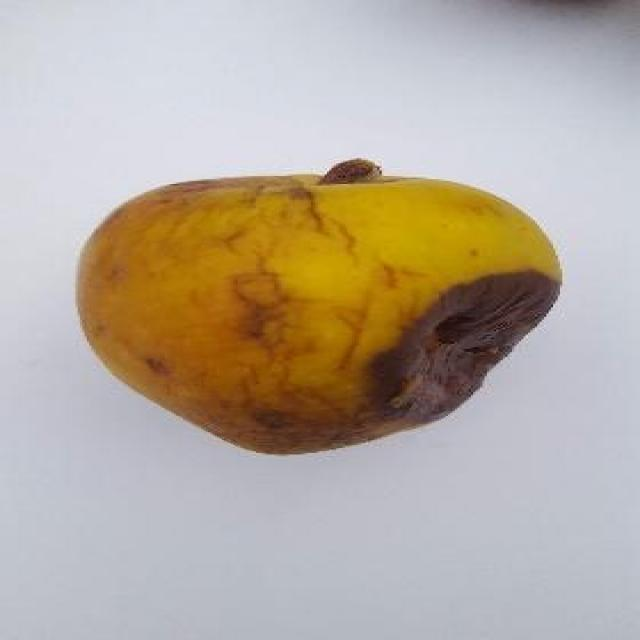Rotten: (58, 176, 541, 453)
